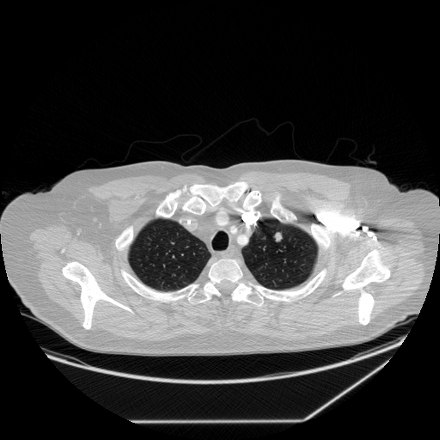nodule: (273, 231, 283, 241)
